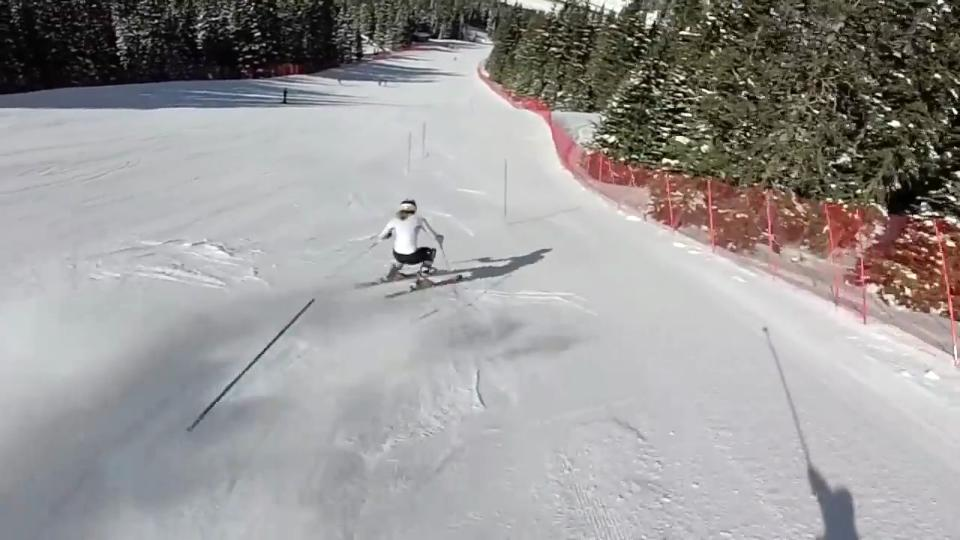gate: (159, 241, 332, 467)
